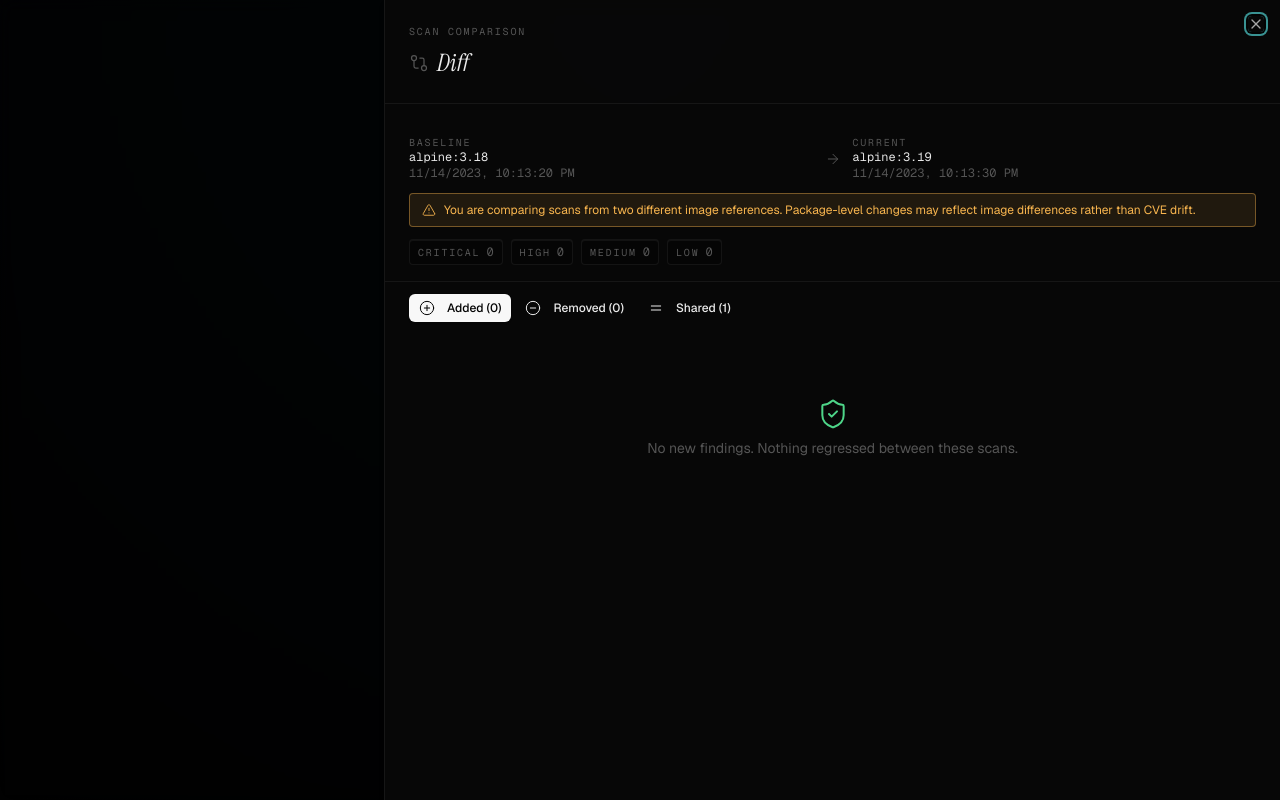
Test: ScanComparisonSheet › relabels the unchanged bucket as "Shared" for cross-image comparisons
Click the button "Shared (1)" at x=689, y=308, box [638, 294, 741, 322]
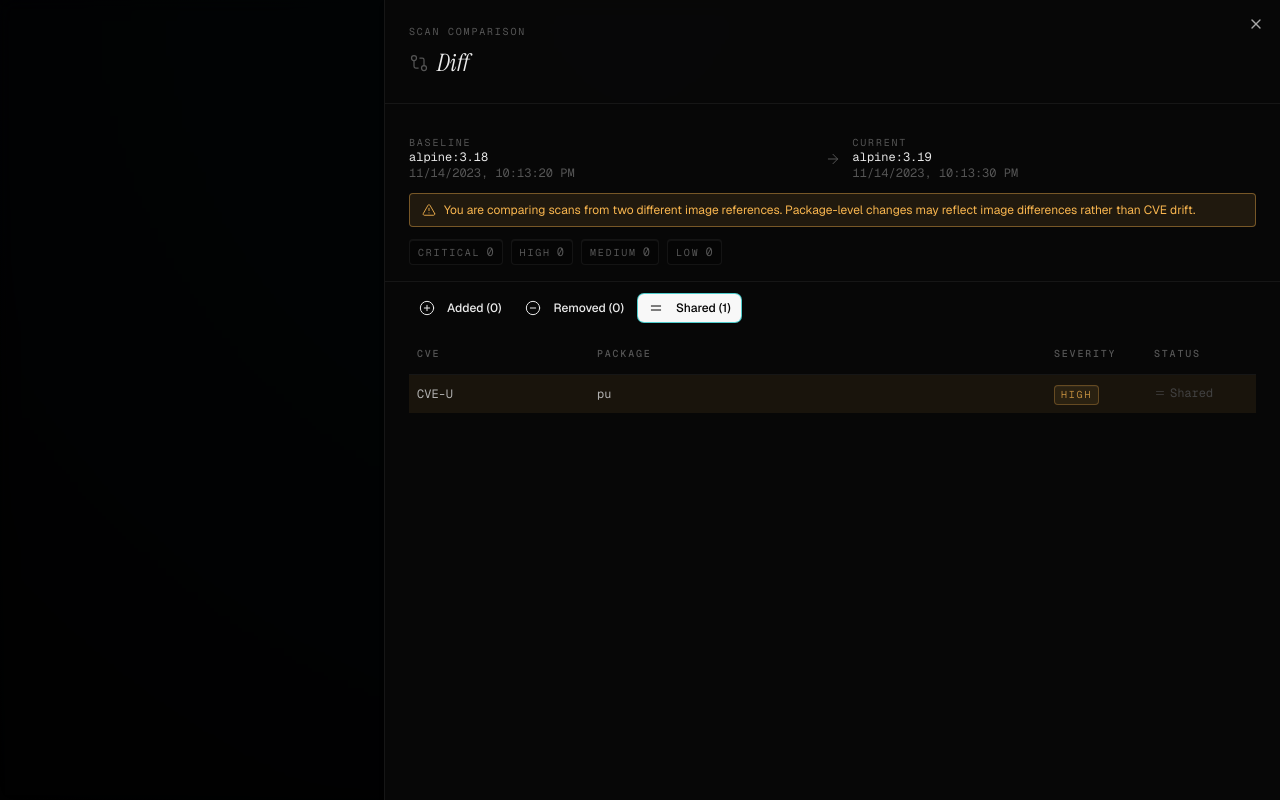
Expected: the text "Shared" is shown, [1154, 385, 1213, 401]
